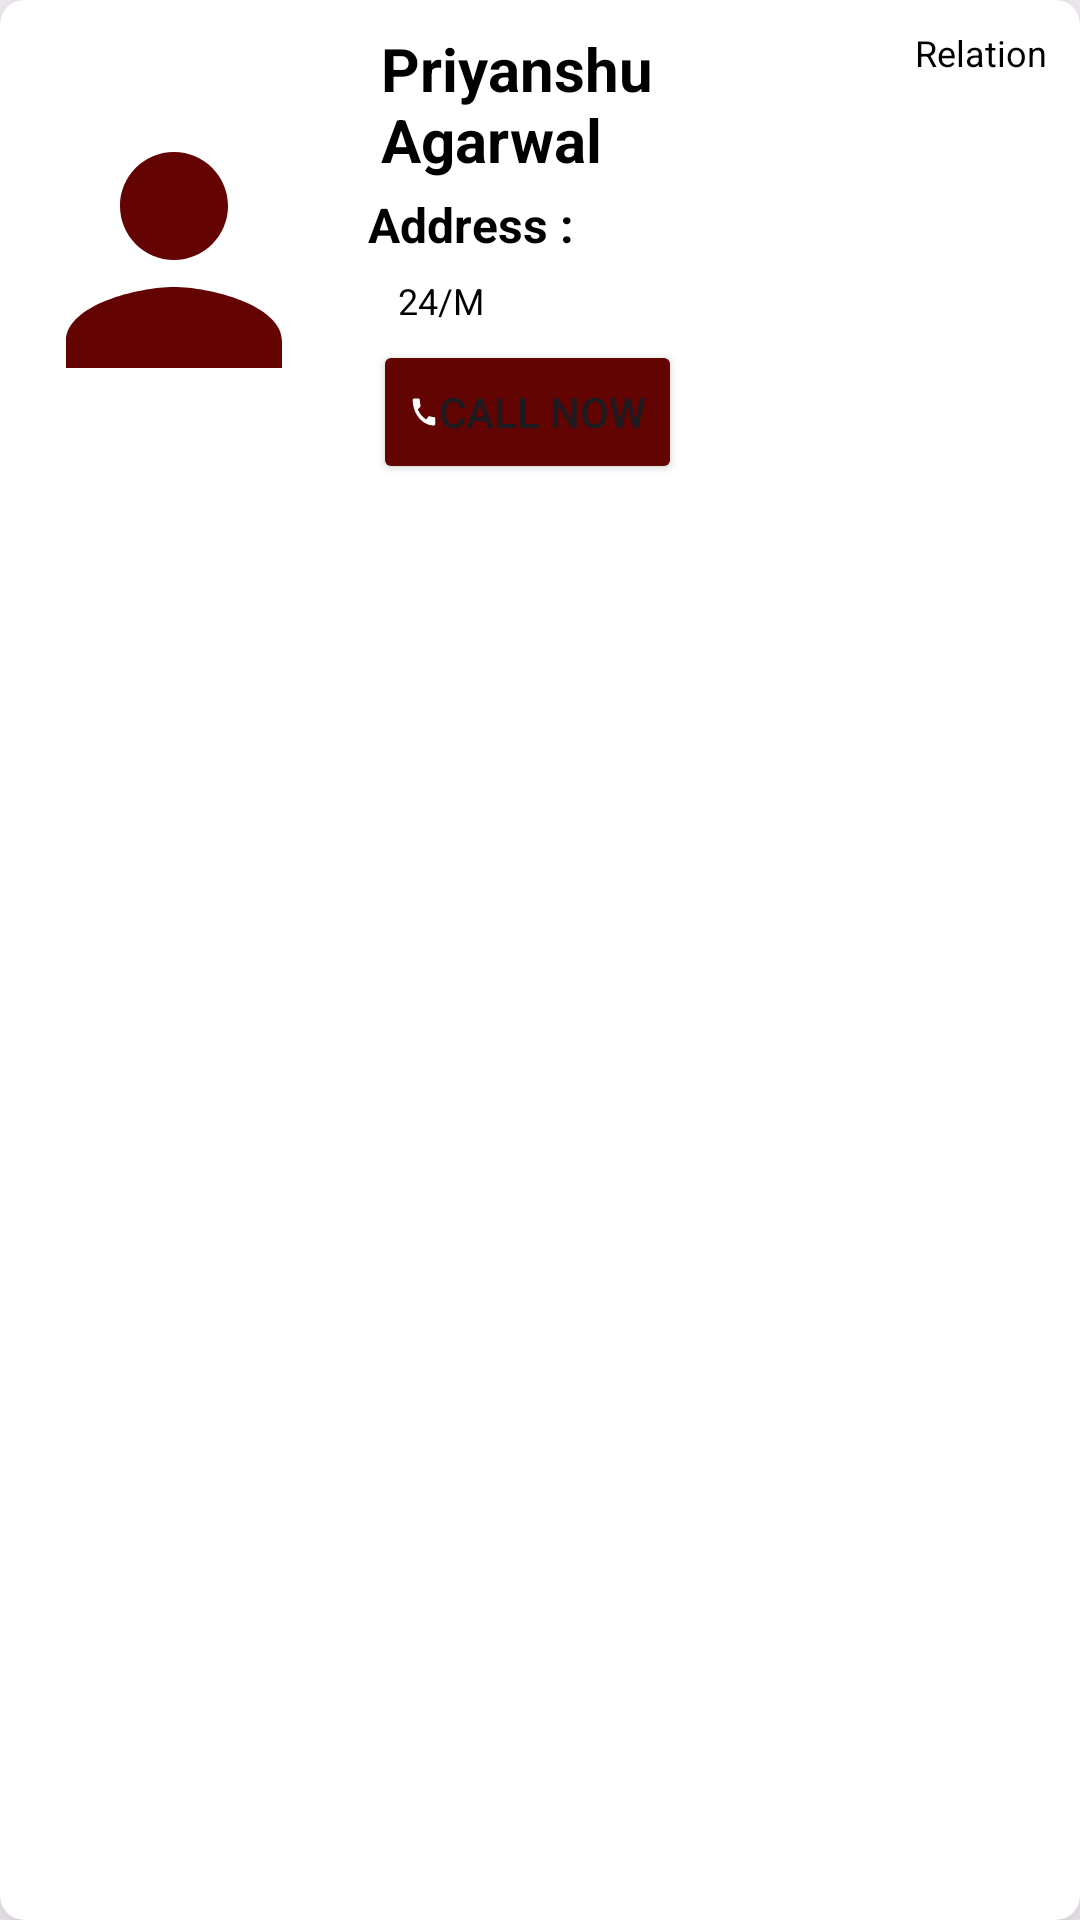

Screen size 1080 x 1920. Icon name, then its center in pixels as (x=x, y=y):
person: (x=174, y=260)
